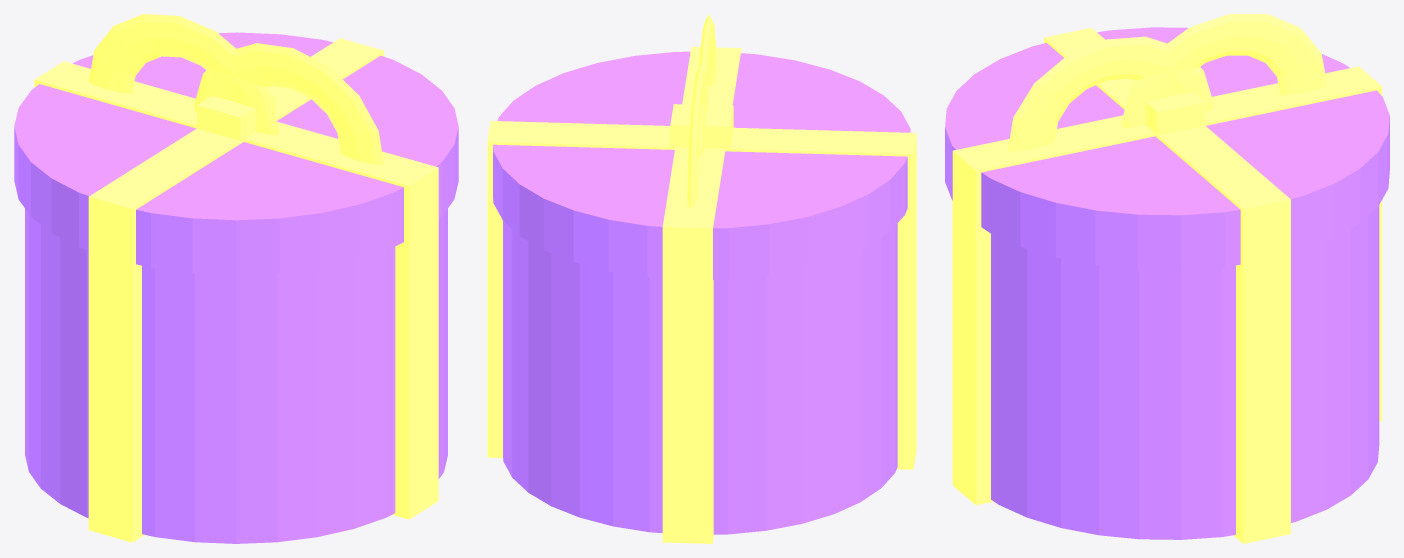
File: Tmpl_Round_Root_202.glb
3 views of the same model, side by side, from view 1: azimuth 30°, elevation 25°; view 2: azimuth 150°, elevation 25°; view 3: azimuth 270°, elevation 25° (orthographic). The views are drawn at different scales.
Parts seen in each view (by area): view 1: Tmpl_Round_Base.200, Tmpl_Round_Lid.200, Tmpl_Round_Ribbon_Y.200, Tmpl_Round_Ribbon_X.200, Tmpl_Round_BowL.200, Tmpl_Round_BowR.200, Tmpl_Round_BowKnot.200; view 2: Tmpl_Round_Base.200, Tmpl_Round_Lid.200, Tmpl_Round_Ribbon_X.200, Tmpl_Round_Ribbon_Y.200, Tmpl_Round_BowKnot.200, Tmpl_Round_BowL.200, Tmpl_Round_BowR.200; view 3: Tmpl_Round_Base.200, Tmpl_Round_Lid.200, Tmpl_Round_Ribbon_Y.200, Tmpl_Round_Ribbon_X.200, Tmpl_Round_BowL.200, Tmpl_Round_BowR.200, Tmpl_Round_BowKnot.200.
Boxes of the visible parts, bbox=[...] form: Tmpl_Round_Base.200: bbox=[25, 209, 447, 543]; Tmpl_Round_Lid.200: bbox=[14, 32, 458, 274]; Tmpl_Round_Ribbon_Y.200: bbox=[88, 38, 384, 542]; Tmpl_Round_Ribbon_X.200: bbox=[34, 61, 438, 519]; Tmpl_Round_BowL.200: bbox=[89, 14, 278, 135]; Tmpl_Round_BowR.200: bbox=[194, 43, 383, 165]; Tmpl_Round_BowKnot.200: bbox=[197, 94, 275, 140]; Tmpl_Round_Base.200: bbox=[503, 221, 897, 534]; Tmpl_Round_Lid.200: bbox=[493, 51, 910, 279]; Tmpl_Round_Ribbon_X.200: bbox=[662, 46, 741, 543]; Tmpl_Round_Ribbon_Y.200: bbox=[487, 121, 916, 469]; Tmpl_Round_BowKnot.200: bbox=[670, 104, 733, 151]; Tmpl_Round_BowL.200: bbox=[687, 65, 708, 208]; Tmpl_Round_BowR.200: bbox=[698, 14, 716, 156]; Tmpl_Round_Base.200: bbox=[991, 205, 1379, 539]; Tmpl_Round_Lid.200: bbox=[945, 27, 1389, 269]; Tmpl_Round_Ribbon_Y.200: bbox=[1044, 28, 1290, 543]; Tmpl_Round_Ribbon_X.200: bbox=[952, 66, 1382, 505]; Tmpl_Round_BowL.200: bbox=[1121, 14, 1327, 127]; Tmpl_Round_BowR.200: bbox=[1007, 36, 1213, 151]; Tmpl_Round_BowKnot.200: bbox=[1129, 88, 1205, 135].
Bounding box in the file's own units: 1.05 × 1.11 × 1.05.
